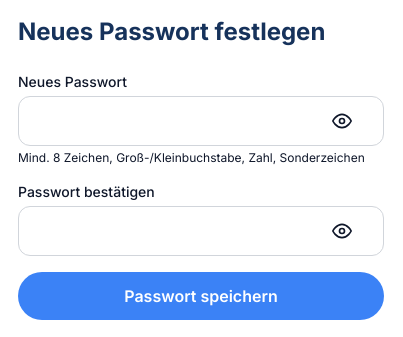
ResetPasswordForm › zeigt eine verstaendliche Fehlermeldung bei ungueltigem oder abgelaufenem Token
The image size is (403, 337).
Type "NeuesPass1!" into the password field labelled "Neues Passwort" at (201, 121), box [18,96,384,146]
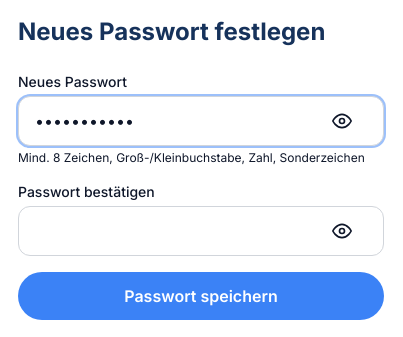
Type "NeuesPass1!" into the password field labelled "Passwort bestätigen" at (201, 231), box [18,206,384,256]
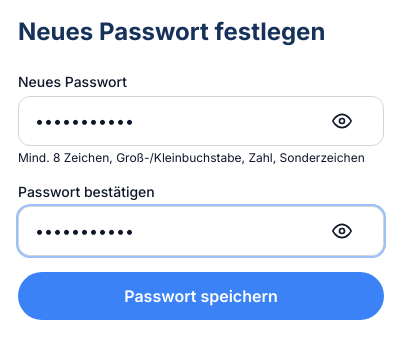
Click the button "Passwort speichern" at (201, 296), box [18,272,384,320]
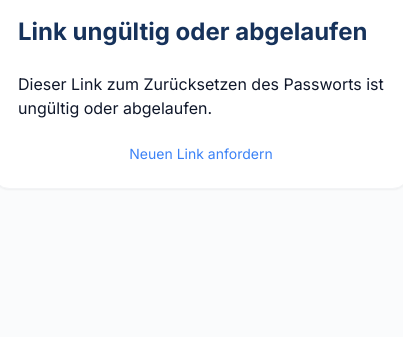
Expected: the heading "Link ungültig oder abgelaufen" is shown, [18,16,384,48]
Expected: the text "Dieser Link zum Zurücksetzen des Passworts ist ungültig oder abgelaufen." is shown, [18,72,384,120]
